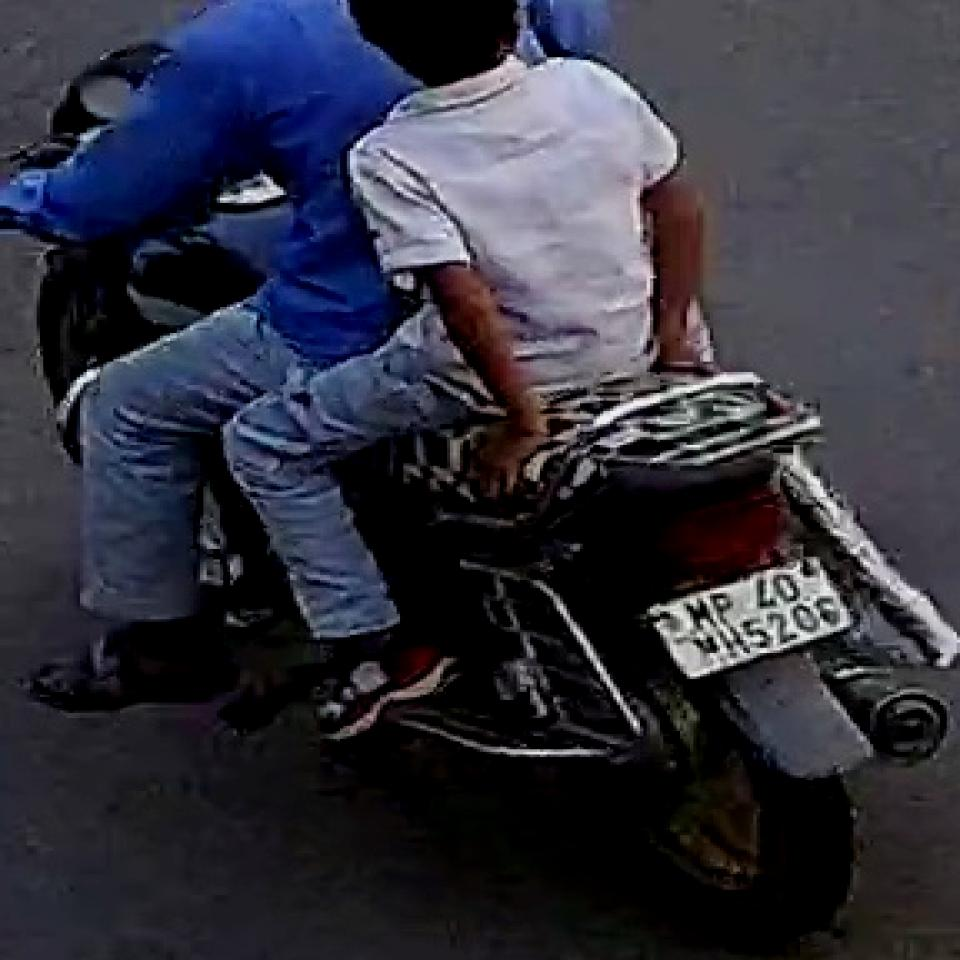tail_light: (639, 479, 795, 588)
